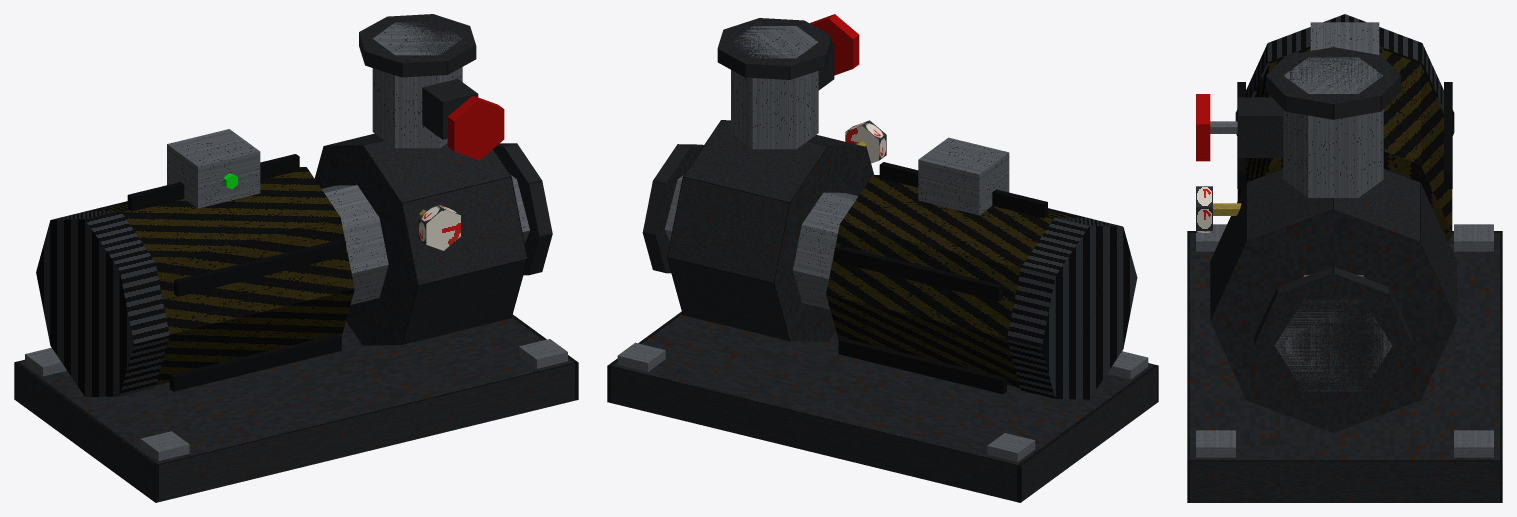
File: coolant_pump.glb
3 views of the same model, side by side, from view 1: azimuth 30°, elevation 25°; view 2: azimuth 150°, elevation 25°; view 3: azimuth 270°, elevation 25° (orthographic). The views are drawn at different scales.
Visible parts, largest first — view 1: coolant_pump; view 2: coolant_pump; view 3: coolant_pump.
Part boxes in pixels (x1,y1,x2,y2): coolant_pump: [14, 14, 578, 502]; coolant_pump: [607, 14, 1158, 502]; coolant_pump: [1187, 14, 1502, 502].
Size of the model in its own units: 0.959 by 0.7221 by 0.55.
1 material, 1 textured.
